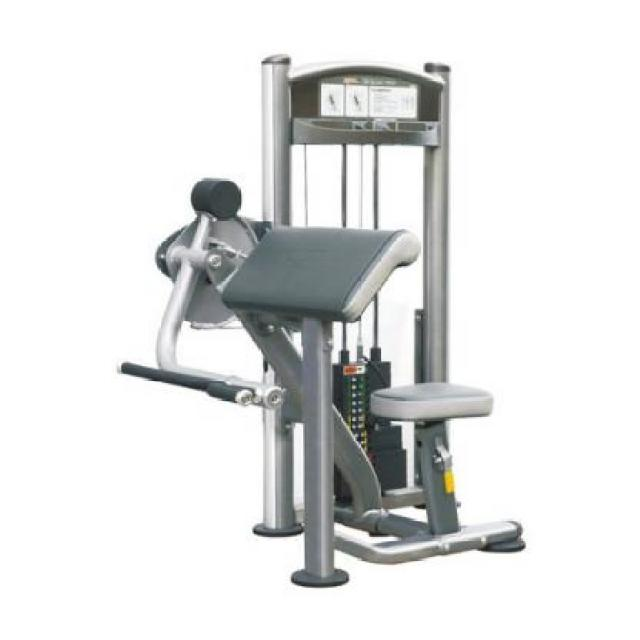arm curl machine: (117, 55, 525, 588)
